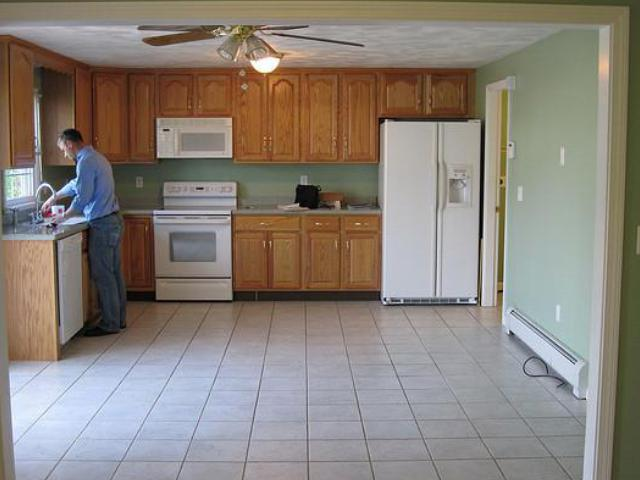Lavaplatos: (26, 178, 91, 229)
